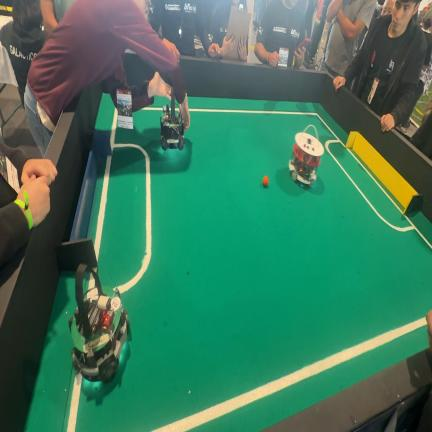cancha: (25, 94, 432, 432)
limites: (191, 108, 432, 250), (153, 318, 426, 432), (110, 108, 151, 293), (348, 148, 400, 210), (94, 155, 112, 258), (67, 374, 82, 432), (140, 107, 162, 111)
pelota: (263, 176, 268, 187)
porteria: (57, 130, 112, 271), (345, 131, 422, 214)
robot: (69, 264, 130, 383), (289, 125, 324, 186), (161, 87, 185, 150)
